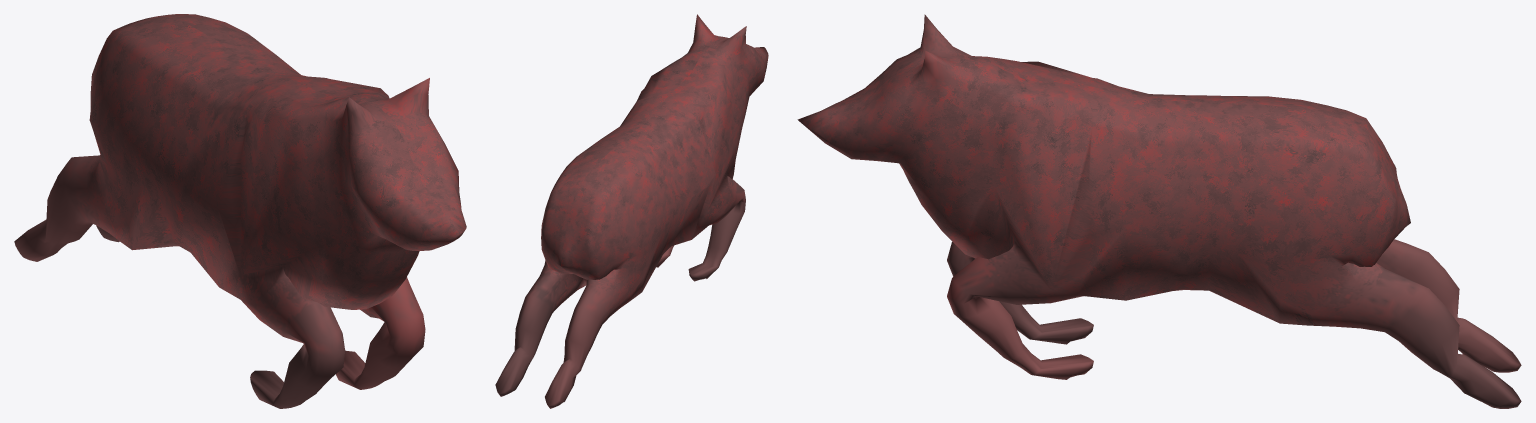
File: piesblend_000023.obj
The picture shows the model from 3 angles, left to right: view 1: azimuth 30°, elevation 25°; view 2: azimuth 150°, elevation 25°; view 3: azimuth 270°, elevation 25°; orthographic projection. The views are drawn at different scales.
Parts seen in each view (by area): view 1: Cube; view 2: Cube; view 3: Cube.
Boxes of the visible parts, x1=… form: Cube: x1=14, y1=14, x2=466, y2=408; Cube: x1=495, y1=14, x2=768, y2=408; Cube: x1=797, y1=14, x2=1521, y2=408.
Size of the model in its own units: 2.55 by 5.81 by 10.61.
1 material, 1 textured.
